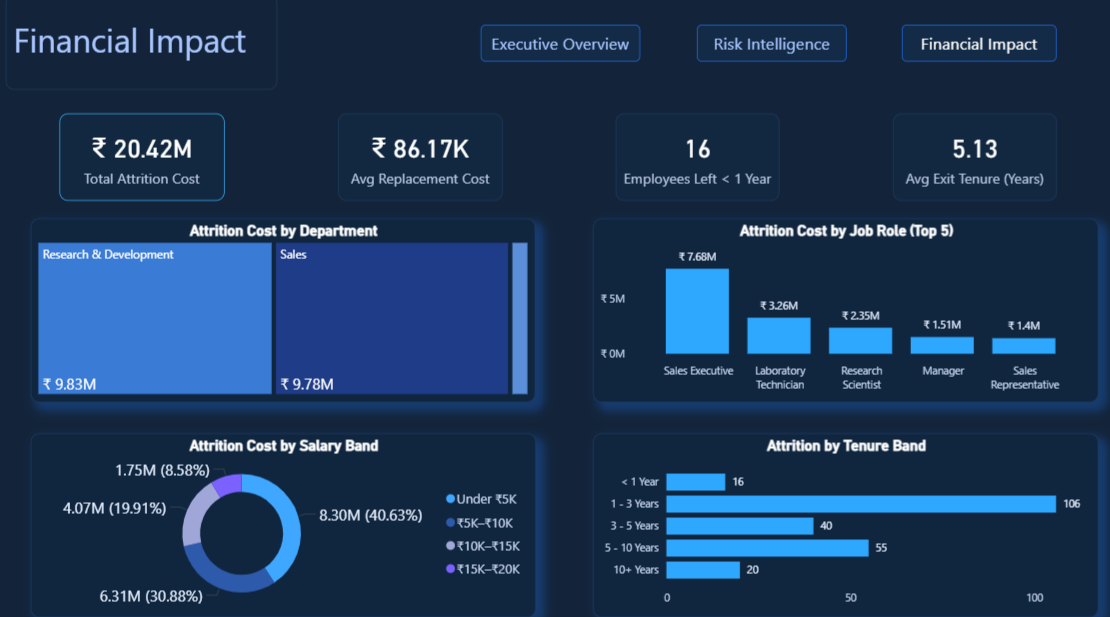

Layout of this report page (visuals, bound fields, positions):
{"tool":"powerbi","page":{"name":"Financial Impact","canvas":[1280,720],"ordinal":2},"visuals":[{"type":"actionButton","box":[554.4,35.7,181.1,39.8],"z":0},{"type":"textbox","box":[10,0,310,108.8],"z":2000},{"type":"textbox","box":[553,33.9,182.5,42.5],"z":3000},{"type":"textbox","box":[799.3,33.9,171.5,42.5],"z":4000},{"type":"textbox","box":[1034.7,33.9,177,42.5],"z":5000},{"type":"actionButton","box":[552.5,36.2,183.8,40],"z":6000},{"type":"actionButton","box":[798.8,36.2,171.2,40],"z":7000},{"type":"card","fields":{"Values":["hr_analytics hr_employee_data.Employees Left < 1 Year"]},"box":[706.8,136.2,187.5,100],"z":8000},{"type":"card","fields":{"Values":["hr_analytics hr_employee_data.Avg Replacement Cost"]},"box":[389.4,136,188,100.2],"z":9000},{"type":"card","fields":{"Values":["hr_analytics hr_employee_data.Total Attrition Cost"]},"box":[71.2,136.3,188.8,100],"z":10000},{"type":"card","fields":{"Values":["hr_analytics hr_employee_data.Avg Tenure of Employees Who Left"]},"box":[1023.8,136.2,187,100],"z":11000},{"type":"treemap","title":"Attrition Cost by Department","fields":{"Group":["hr_analytics hr_employee_data.department"],"Values":["hr_analytics hr_employee_data.Total Attrition Cost"]},"box":[38.8,256.2,577,210],"z":12000},{"type":"clusteredColumnChart","title":"Attrition Cost by Job Role (Top 5)","fields":{"Category":["hr_analytics hr_employee_data.job_role"],"Y":["hr_analytics hr_employee_data.Total Attrition Cost"]},"box":[681.2,256.2,577.5,210],"z":13000},{"type":"donutChart","title":"Attrition Cost by Salary Band","fields":{"Y":["hr_analytics hr_employee_data.Total Attrition Cost"],"Category":["hr_analytics hr_employee_data.Salary Band"]},"box":[38.8,501.2,577.5,210],"z":14000},{"type":"clusteredBarChart","title":"Attrition by Tenure Band","fields":{"Y":["hr_analytics hr_employee_data.Attrition Count"],"Category":["hr_analytics hr_employee_data.Tenure Band"]},"box":[681.2,501.2,577.5,210],"z":15000}]}

Visuals, with their boxes in screenshot pixels (x1, y1, x2, y2), scaled from the page's 1280x720 canvas onto the 1110x617 screenshot:
actionButton: 481,31,638,65
textbox: 9,0,278,93
textbox: 480,29,638,65
textbox: 693,29,842,65
textbox: 897,29,1051,65
actionButton: 479,31,639,65
actionButton: 693,31,841,65
card - hr_analytics hr_employee_data.Employees Left < 1 Year: 613,117,776,202
card - hr_analytics hr_employee_data.Avg Replacement Cost: 338,117,501,202
card - hr_analytics hr_employee_data.Total Attrition Cost: 62,117,225,202
card - hr_analytics hr_employee_data.Avg Tenure of Employees Who Left: 888,117,1050,202
"Attrition Cost by Department" treemap: 34,220,534,400
"Attrition Cost by Job Role (Top 5)" clusteredColumnChart: 591,220,1092,400
"Attrition Cost by Salary Band" donutChart: 34,430,534,609
"Attrition by Tenure Band" clusteredBarChart: 591,430,1092,609
